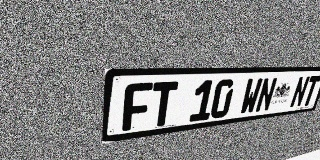0: (209, 79, 235, 119)
1: (189, 80, 216, 122)
F: (122, 82, 153, 131)
N: (254, 77, 278, 113), (289, 76, 311, 108)
T: (149, 81, 178, 128), (301, 76, 320, 107)
W: (239, 78, 263, 115)
